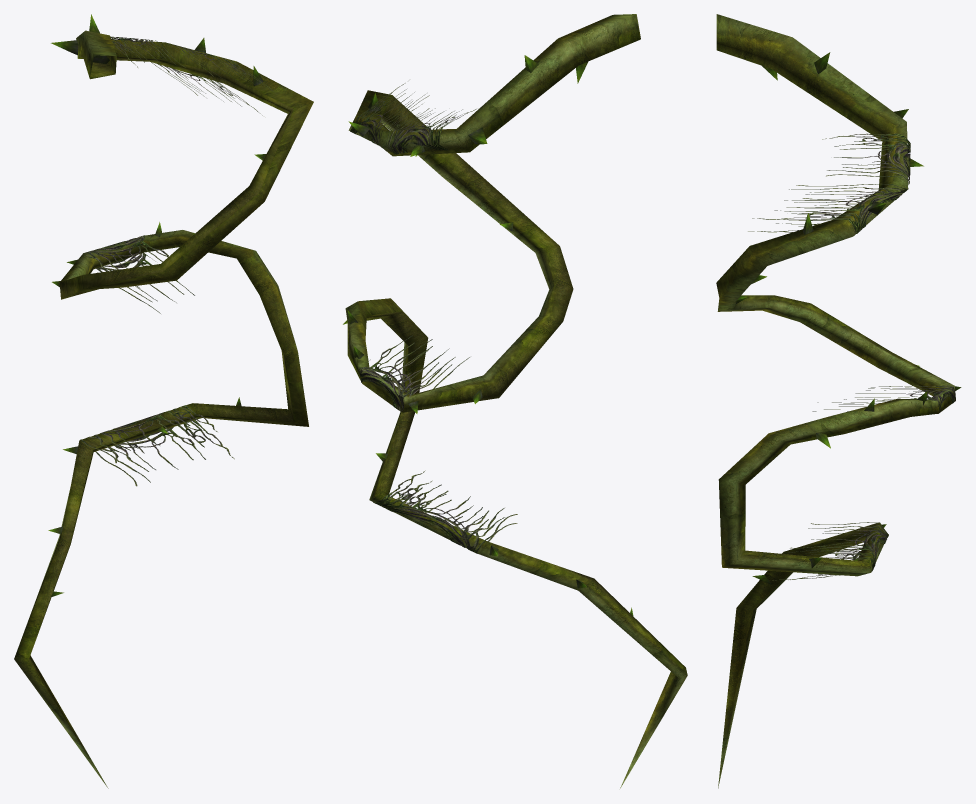
The model's file is Grass_wz_xiyou12.FBX.
3 views of the same model, side by side, from view 1: azimuth 30°, elevation 25°; view 2: azimuth 150°, elevation 25°; view 3: azimuth 270°, elevation 25° (orthographic). The views are drawn at different scales.
Visible parts, largest first — view 1: Grass_wz_xiyou12; view 2: Grass_wz_xiyou12; view 3: Grass_wz_xiyou12.
Part boxes in pixels (<box>): Grass_wz_xiyou12: <box>14,14,313,788</box>; Grass_wz_xiyou12: <box>343,14,687,788</box>; Grass_wz_xiyou12: <box>716,14,961,788</box>.
Size of the model in its own units: 483 by 328 by 1131.
